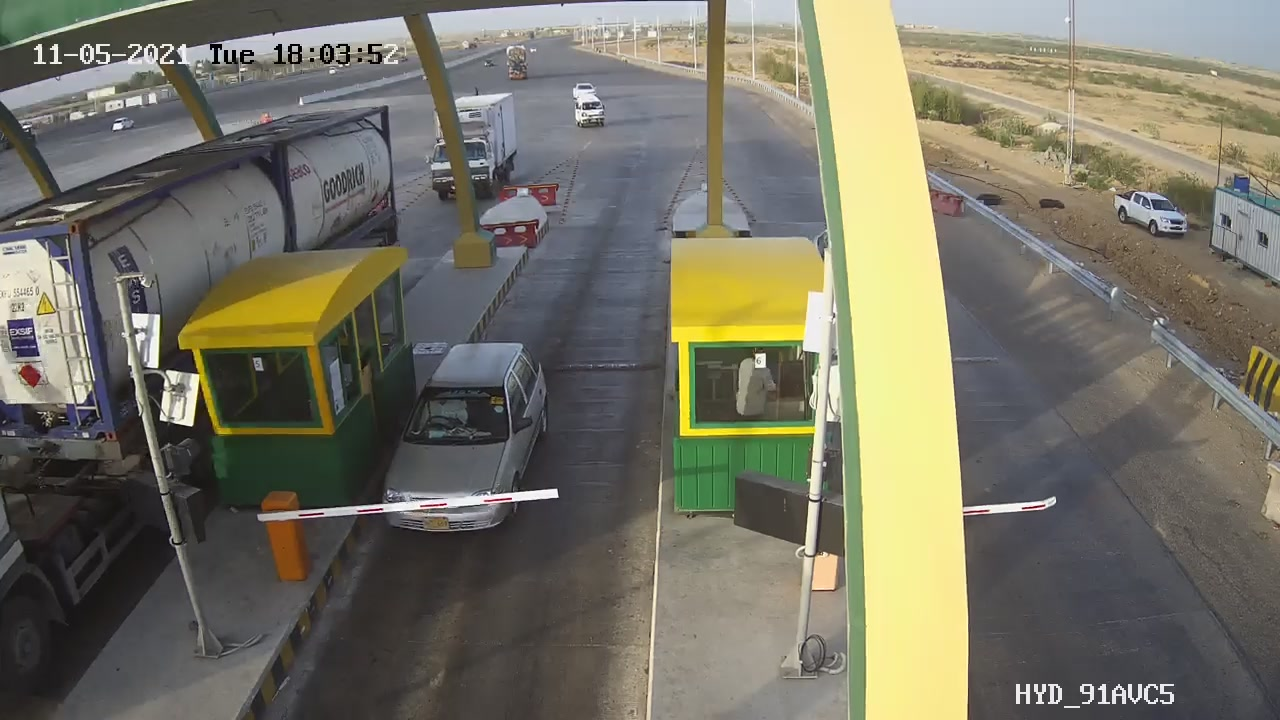F1: (348, 317, 580, 555)
